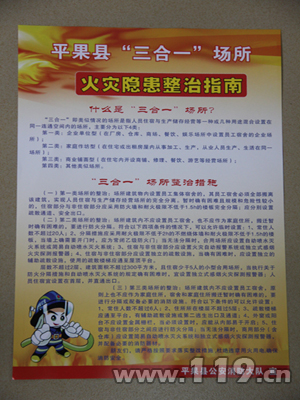bill: (14, 22, 291, 381)
